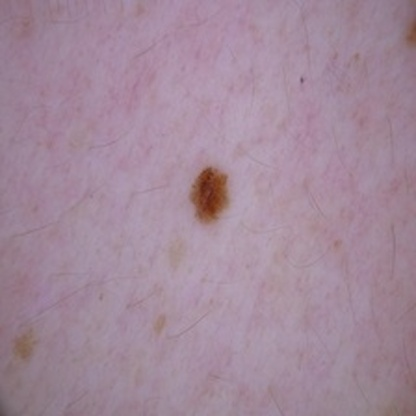malignant: (187, 167, 236, 218)
